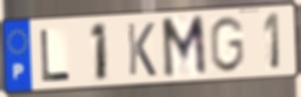1: (89, 21, 112, 84), (261, 10, 281, 73)
G: (207, 14, 246, 75)
K: (125, 21, 158, 78)
L: (38, 27, 73, 83)
M: (159, 13, 209, 82)
